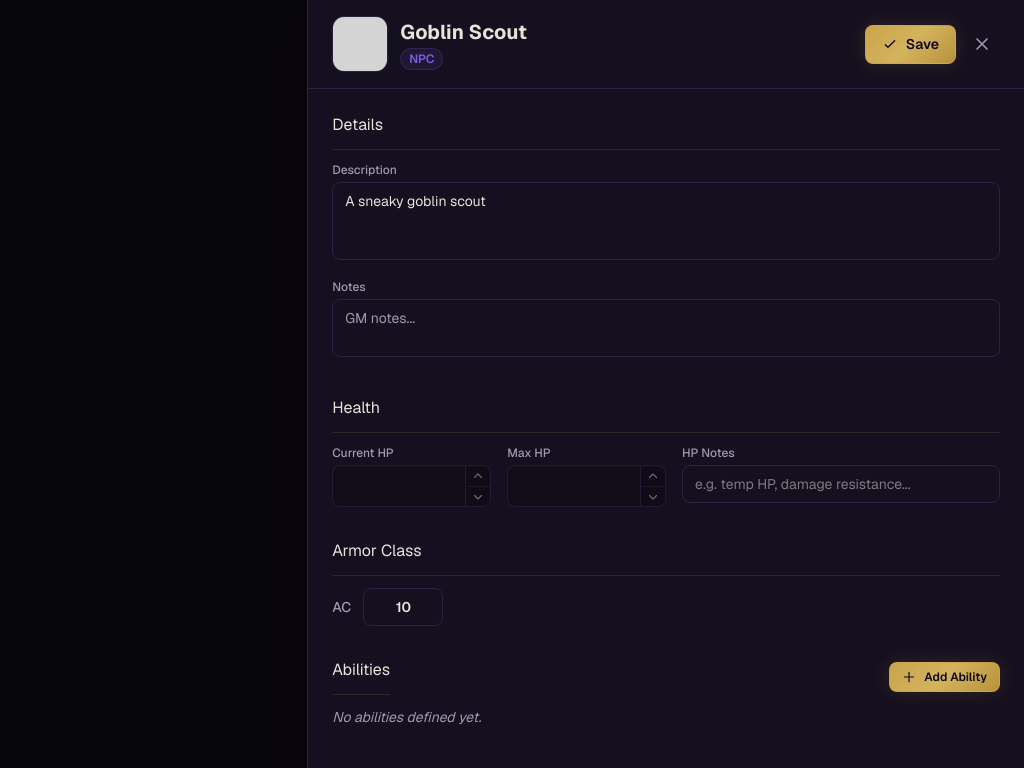
Test: CreatureDrawer › Child abilities › does not show empty state message when Add Ability form is visible
Expected: the heading "Abilities" is shown, [332,658,390,695]
Click the button "Add Ability" at (945, 676), box [889,662,1000,692]
(page scrolled)
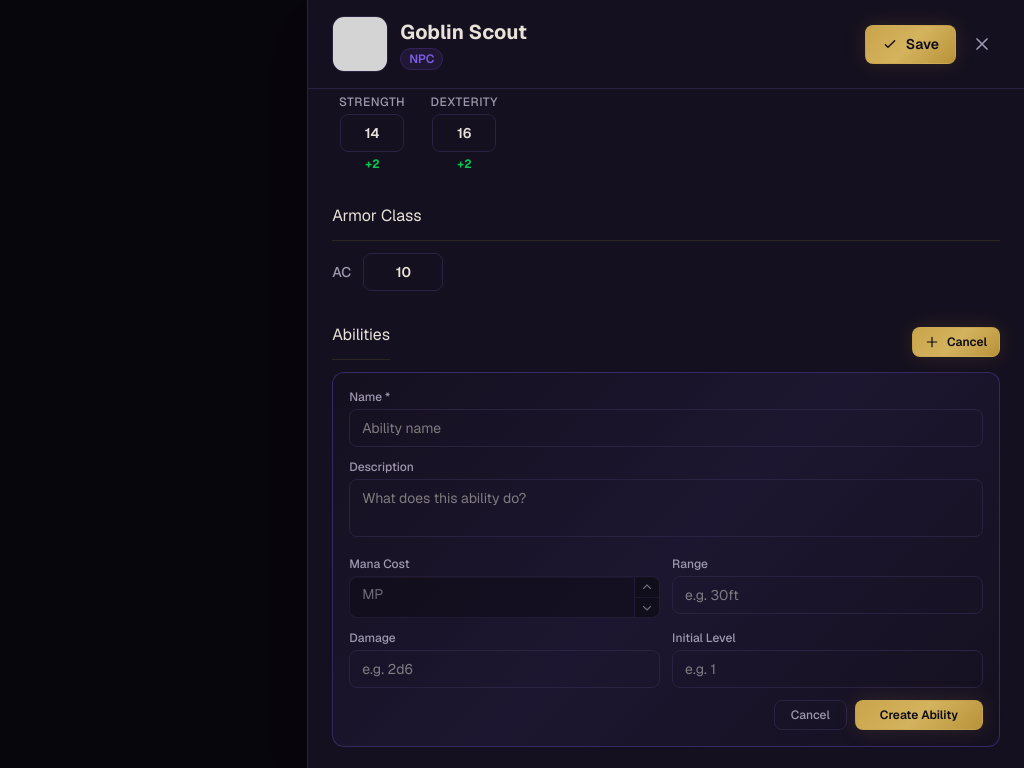
Now the text "No abilities defined yet." is gone
Now the field with placeholder "Ability name" is shown, box [349,409,983,447]
